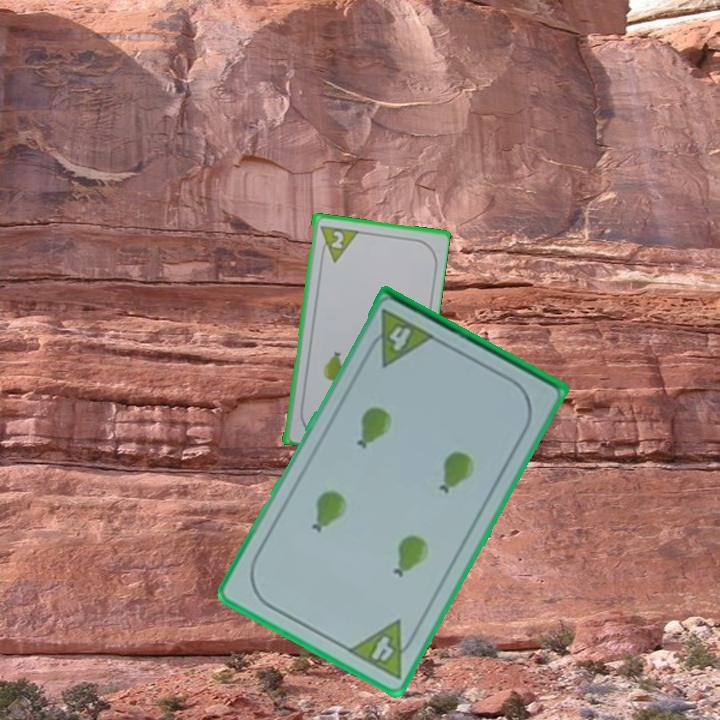2p: (316, 221, 359, 264)
4p: (344, 616, 422, 682), (362, 306, 438, 370)
